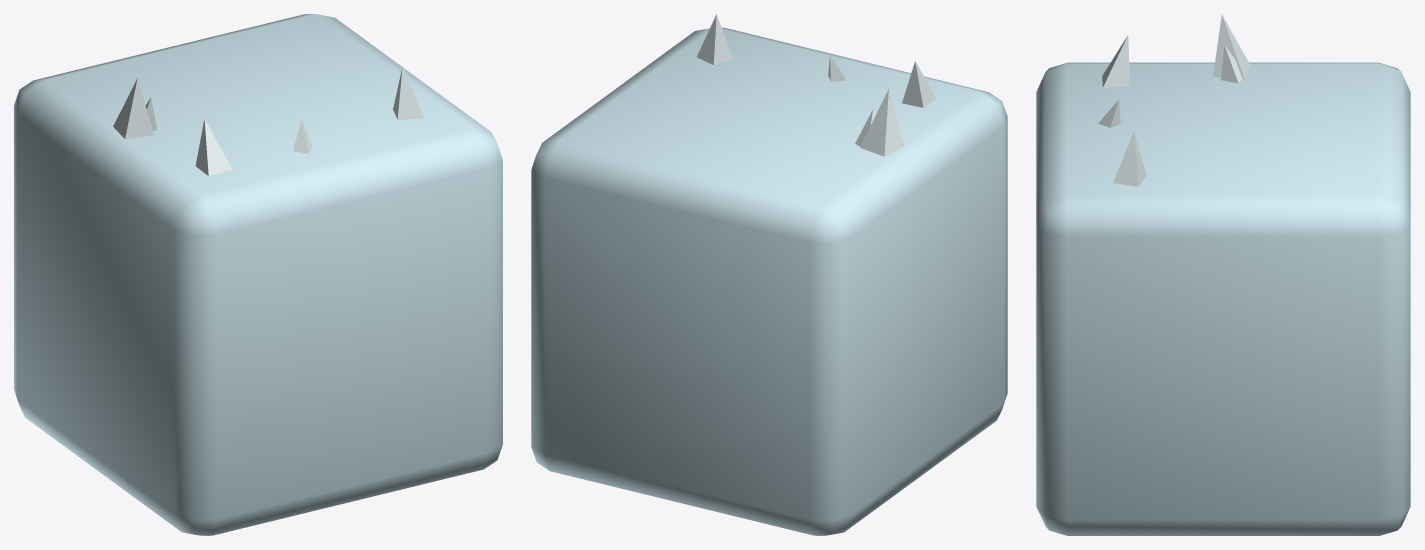
The model's file is Gimmick_IceCube.fbx.
3 renders of one model, left to right at view 1: azimuth 30°, elevation 25°; view 2: azimuth 150°, elevation 25°; view 3: azimuth 270°, elevation 25°, orthographic. The views are drawn at different scales.
Parts seen in each view (by area): view 1: Gimmick_IceCube_Main, Gimmick_IceCube; view 2: Gimmick_IceCube_Main, Gimmick_IceCube; view 3: Gimmick_IceCube_Main, Gimmick_IceCube.
Part boxes in pixels (x1=…): Gimmick_IceCube_Main: x1=14, y1=14, x2=502, y2=535; Gimmick_IceCube: x1=113, y1=66, x2=423, y2=175; Gimmick_IceCube_Main: x1=531, y1=27, x2=1007, y2=535; Gimmick_IceCube: x1=697, y1=14, x2=936, y2=156; Gimmick_IceCube_Main: x1=1036, y1=62, x2=1410, y2=535; Gimmick_IceCube: x1=1098, y1=14, x2=1250, y2=186.
Bounding box in the file's own units: 0.6 × 0.7002 × 0.6.
